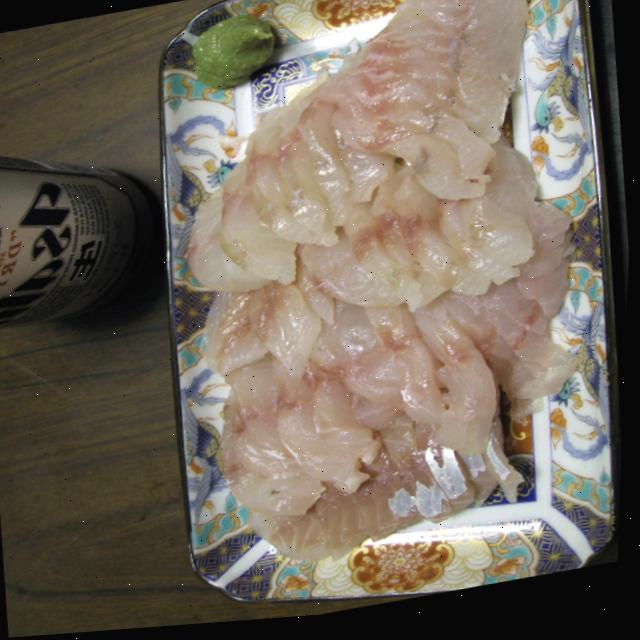刺身生食: (106, 0, 640, 618)
